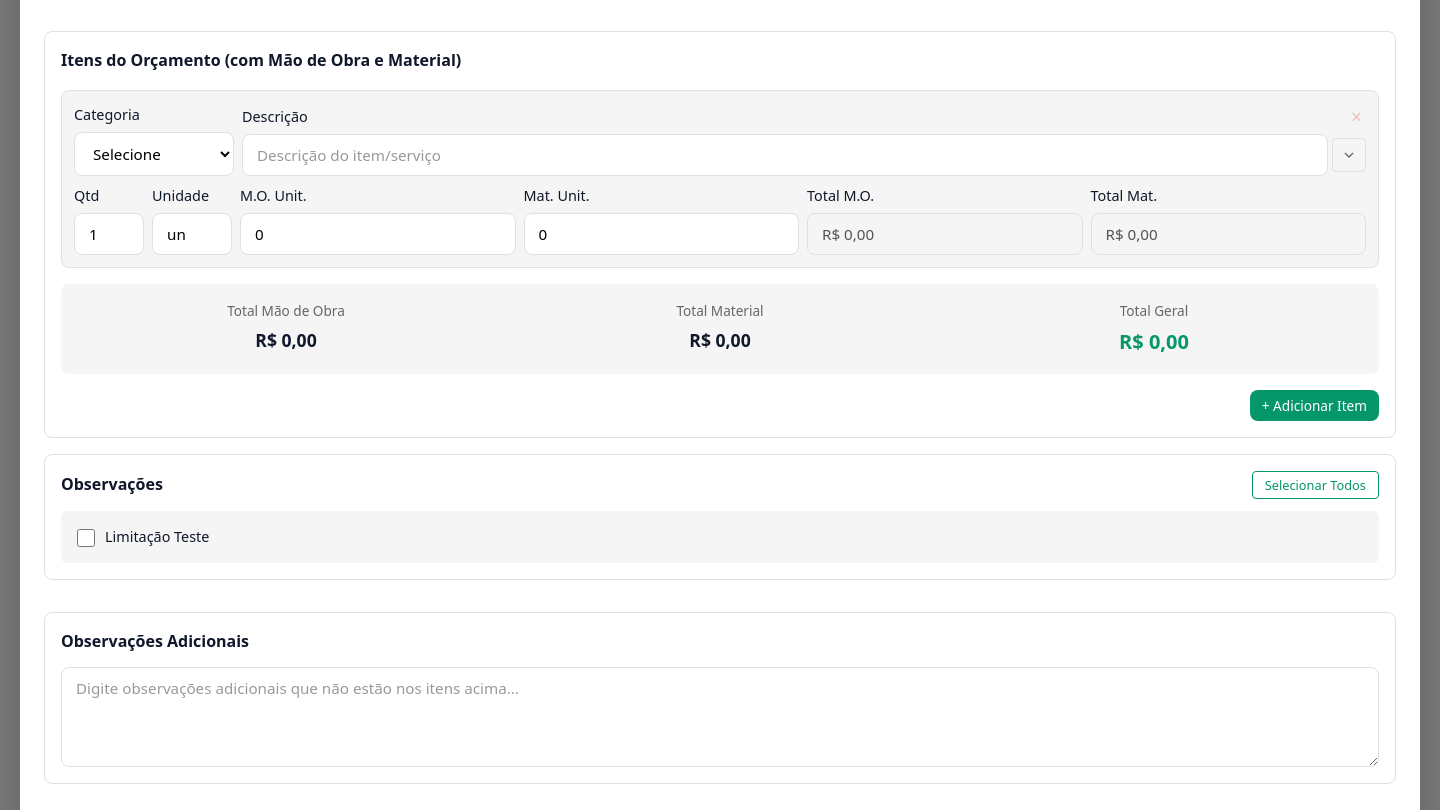
Scenario: OrcamentoModal › deve adicionar novo item ao clicar no botão
(page scrolled)
Click the button "+ Adicionar Item" at (1314, 405), box top-left (1250, 390), bottom-right (1379, 421)
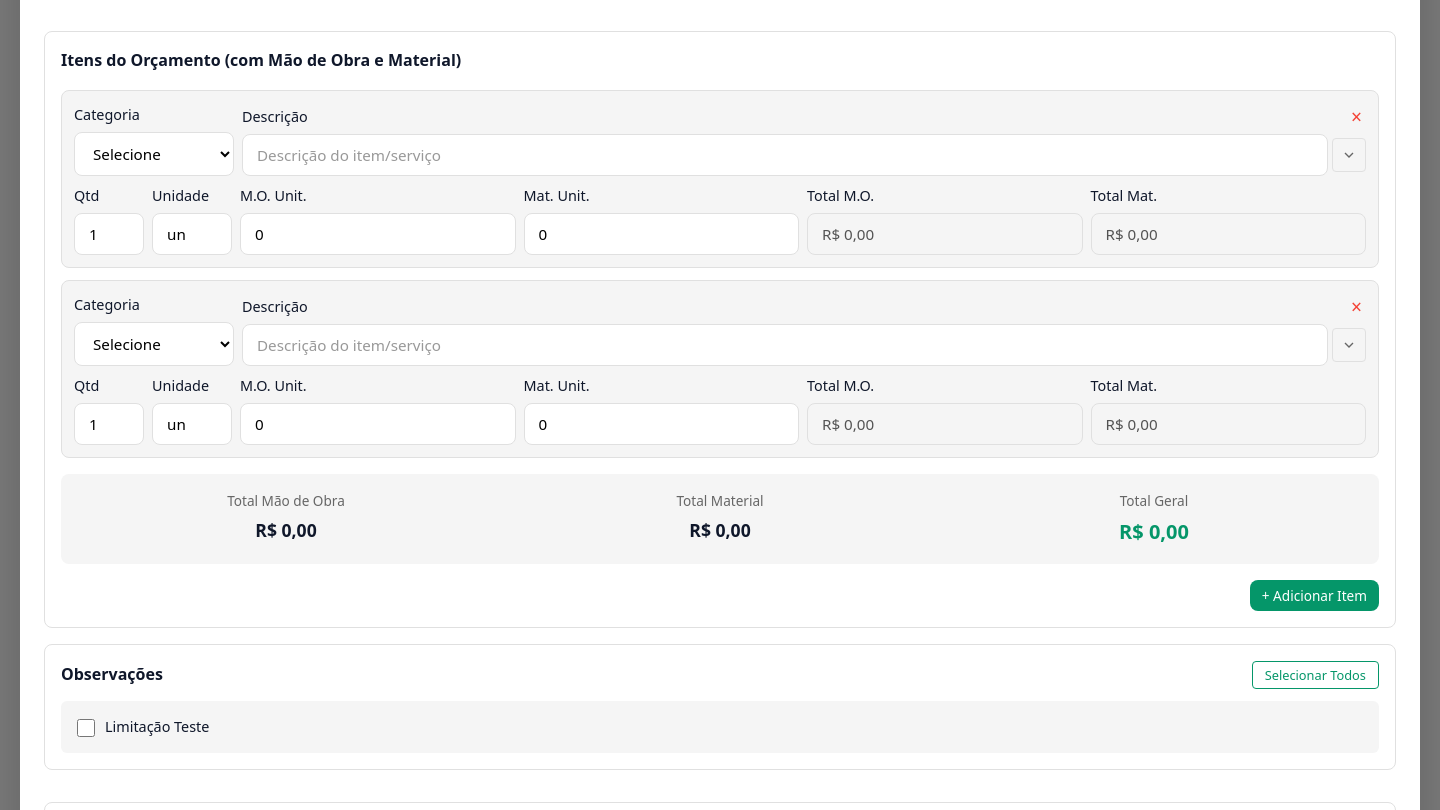
Now the number of fields with placeholder "Descrição do item/serviço" is 2, box top-left (242, 134), bottom-right (1328, 176); top-left (242, 324), bottom-right (1328, 366)
